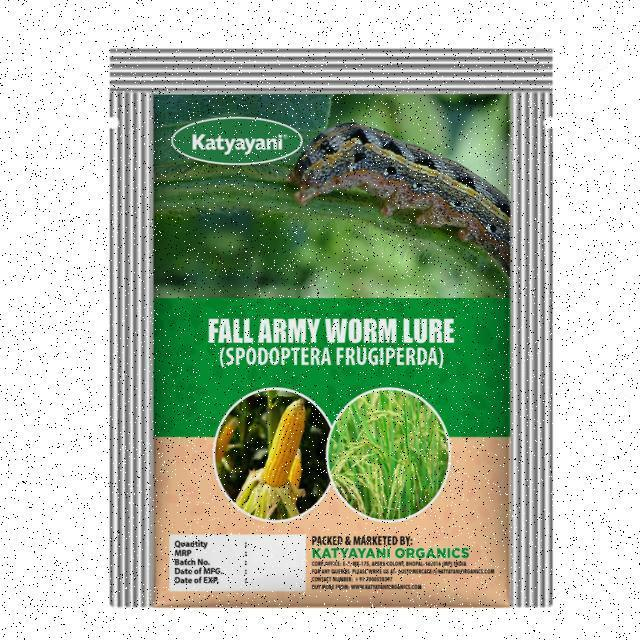army worm: (276, 122, 517, 289)
